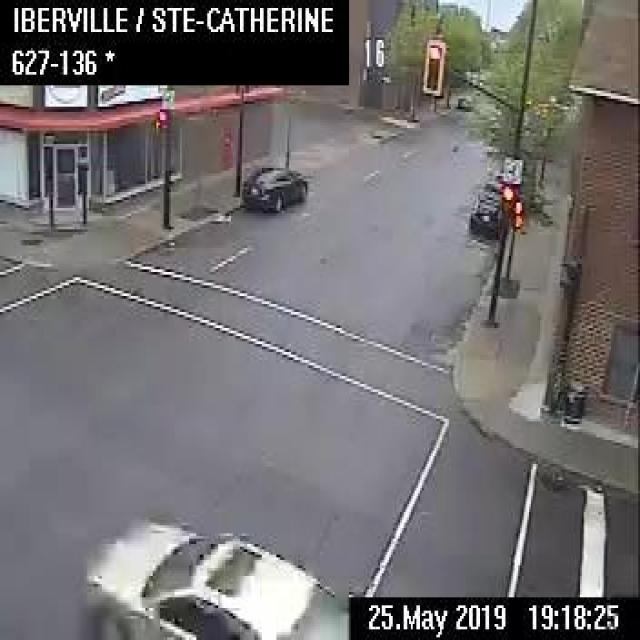vehicle: (82, 514, 346, 638), (240, 164, 308, 208), (467, 189, 500, 237), (484, 170, 502, 189), (456, 92, 473, 107)
